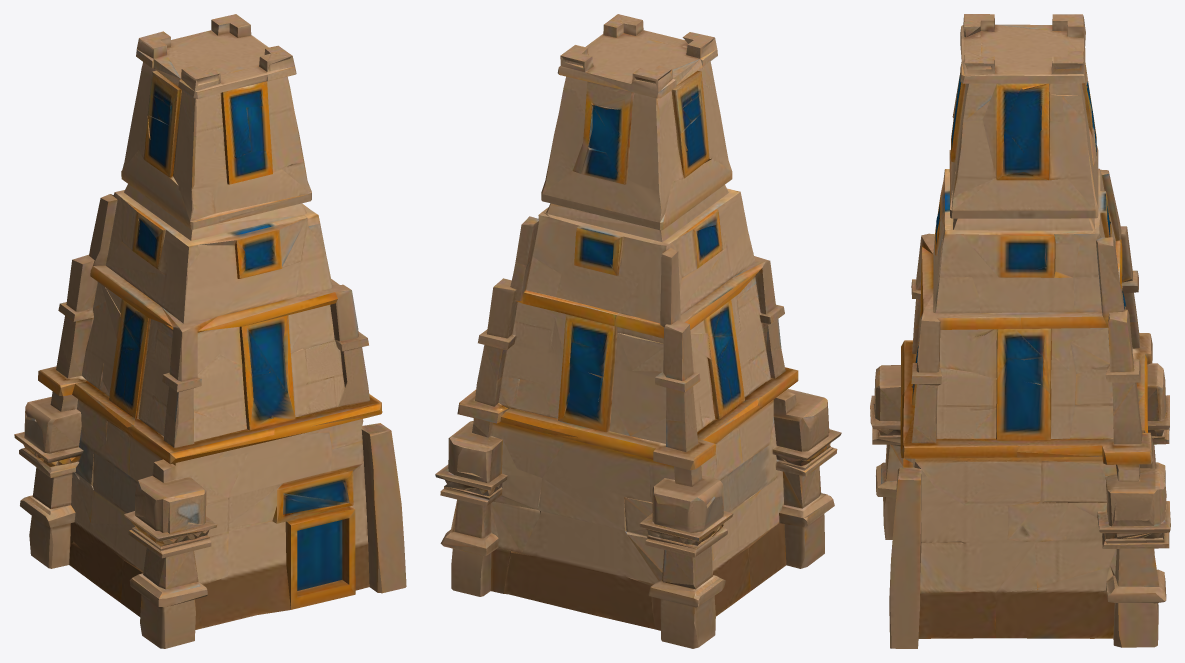
File: deco_tour.glb
The picture shows the model from 3 angles, left to right: view 1: azimuth 30°, elevation 25°; view 2: azimuth 150°, elevation 25°; view 3: azimuth 270°, elevation 25°; orthographic projection. The views are drawn at different scales.
Parts seen in each view (by area): view 1: mesh_node; view 2: mesh_node; view 3: mesh_node.
Boxes of the visible parts, left/top/right/bottom form: mesh_node: left=14, top=14, right=406, bottom=648; mesh_node: left=435, top=14, right=841, bottom=648; mesh_node: left=870, top=14, right=1170, bottom=648.
Size of the model in its own units: 1 by 1.9 by 0.9499.
1 material, 1 textured.
